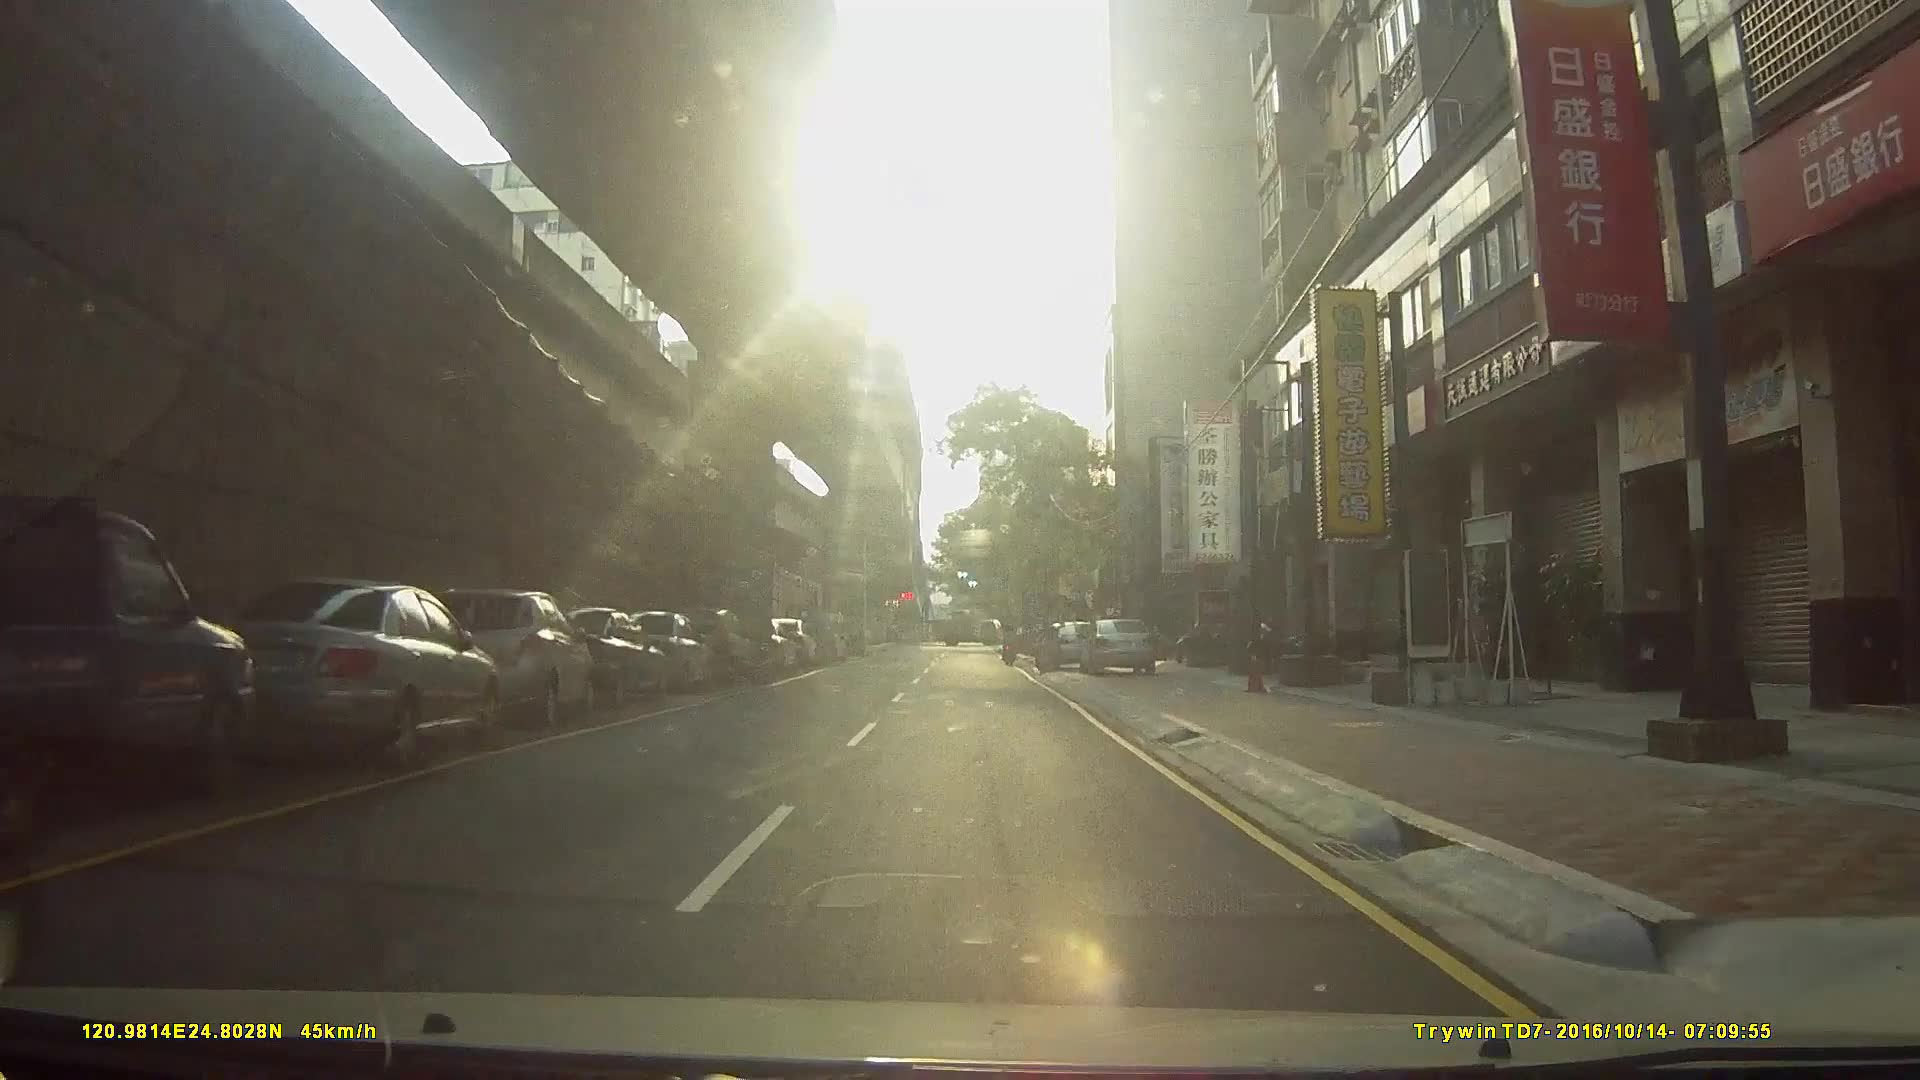vehicle: (1, 506, 258, 851), (167, 574, 493, 781), (404, 585, 589, 735), (531, 607, 665, 709), (621, 611, 712, 692), (671, 605, 756, 688), (1076, 618, 1160, 675), (781, 599, 836, 669), (1033, 621, 1097, 675), (928, 611, 1007, 647)
